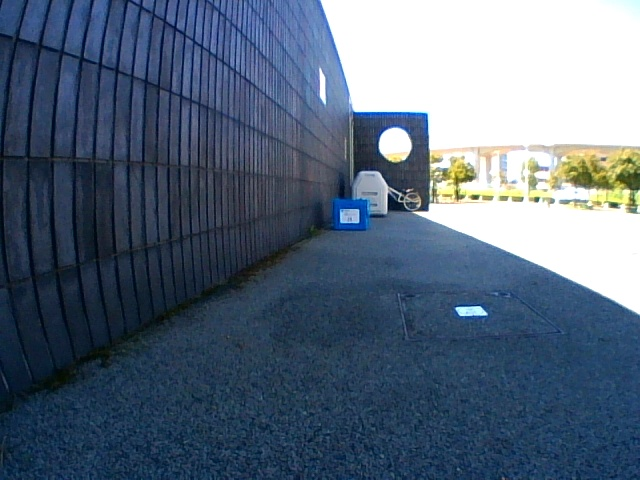blue_box: (333, 199, 367, 231)
tag: (339, 209, 360, 223)
